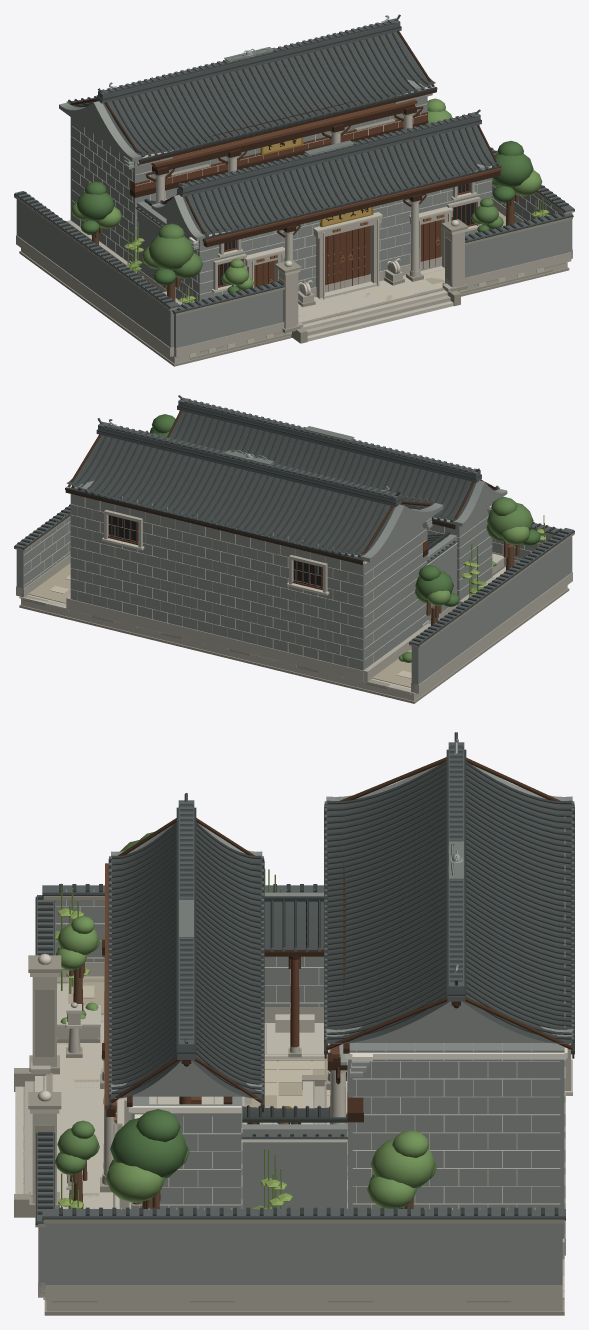
3 views of the same model, one above another, from view 1: azimuth 30°, elevation 25°; view 2: azimuth 150°, elevation 25°; view 3: azimuth 270°, elevation 25° (orthographic). The views are drawn at different scales.
Bounding box in the file's own units: 1 × 0.4247 × 0.7153.
